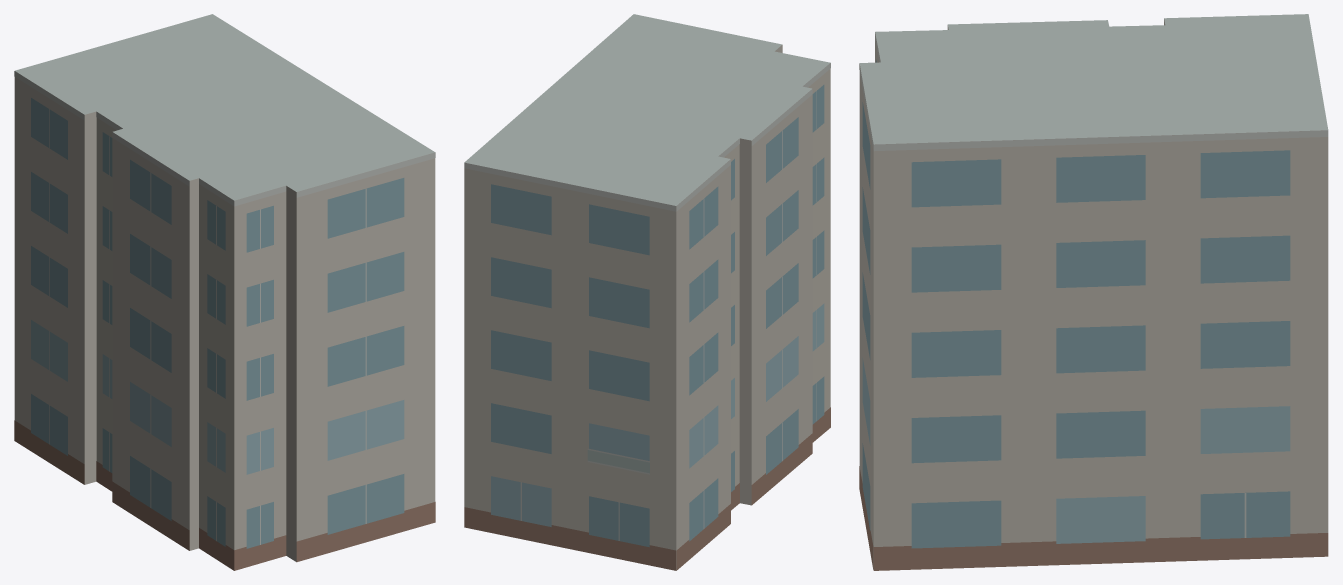
Rendered from survey-upis-32773779.glb.
3 renders of one model, left to right at view 1: azimuth 30°, elevation 25°; view 2: azimuth 150°, elevation 25°; view 3: azimuth 270°, elevation 25°, orthographic. The views are drawn at different scales.
Visible parts, largest first — view 1: survey-upis-32773779.tmp; view 2: survey-upis-32773779.tmp; view 3: survey-upis-32773779.tmp.
Part boxes in pixels (x1=…): survey-upis-32773779.tmp: x1=14, y1=14, x2=435, y2=570; survey-upis-32773779.tmp: x1=464, y1=14, x2=830, y2=570; survey-upis-32773779.tmp: x1=859, y1=14, x2=1328, y2=570.
Size of the model in its own units: 10.22 by 15.55 by 15.5.
